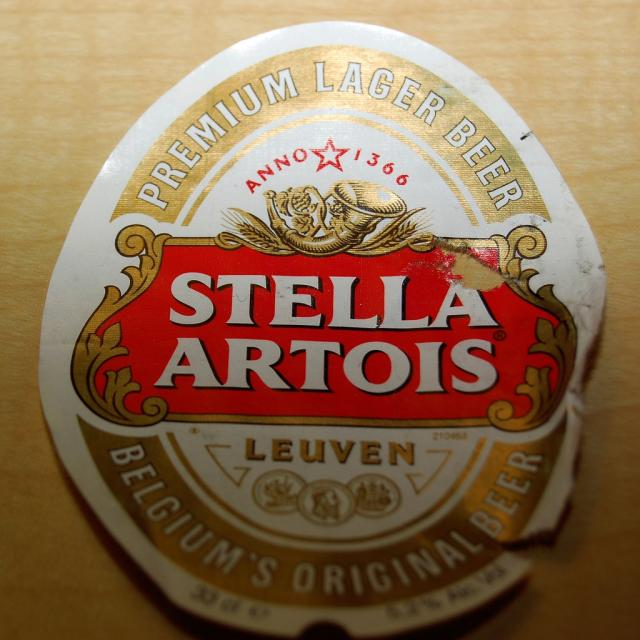stellaartois: (33, 16, 613, 640)
